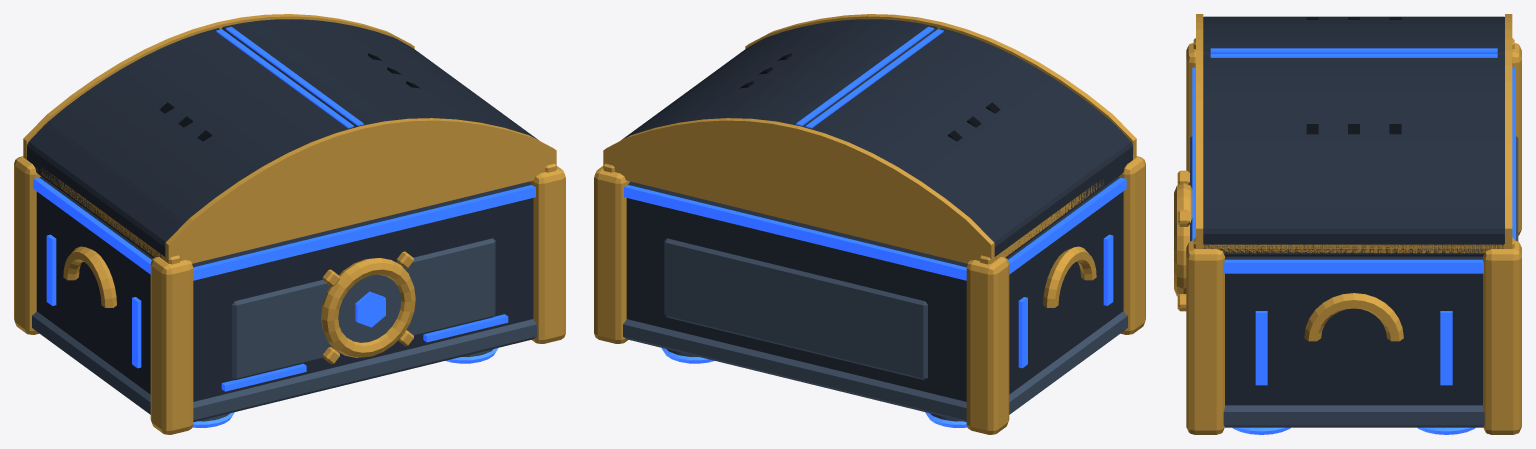
The model's file is pod_chest.glb.
3 renders of one model, left to right at view 1: azimuth 30°, elevation 25°; view 2: azimuth 150°, elevation 25°; view 3: azimuth 270°, elevation 25°, orthographic. The views are drawn at different scales.
Parts seen in each view (by area): view 1: lid_l.chest_shell, base.chest_shell, base.chest_panel, base.chest_gold, lid_l.chest_gold, lid_r.chest_shell, lid_r.chest_gold, base.glow_seam, lock.chest_gold, lock.chest_panel, lid_r.glow_seam, lid_l.glow_seam (+2 smaller); view 2: lid_l.chest_shell, base.chest_shell, base.chest_panel, base.chest_gold, lid_l.chest_gold, lid_r.chest_shell, lid_r.chest_gold, base.glow_seam, lid_r.glow_seam, lid_l.glow_seam, base.glow_core; view 3: lid_r.chest_shell, base.chest_shell, base.chest_gold, lid_l.chest_shell, base.glow_seam, base.chest_panel, lid_r.chest_gold, lock.chest_gold, lid_l.glow_seam, lid_r.glow_seam, base.glow_core, lid_l.chest_gold (+1 smaller).
Boxes of the visible parts, x1,y1,x2,y2 form: lid_l.chest_shell: (27,28,354,258); base.chest_shell: (36,176,533,401); base.chest_panel: (32,238,536,421); base.chest_gold: (14,156,565,434); lid_l.chest_gold: (23,22,362,264); lid_r.chest_shell: (221,19,538,140); lid_r.chest_gold: (217,14,556,221); base.glow_seam: (33,177,535,391); lock.chest_gold: (321,251,415,364); lock.chest_panel: (338,274,401,342); lid_r.glow_seam: (226,26,363,125); lid_l.glow_seam: (216,29,353,128); lid_l.chest_shell: (805,28,1132,258); base.chest_shell: (626,176,1123,401); base.chest_panel: (623,238,1127,421); base.chest_gold: (594,156,1145,434); lid_l.chest_gold: (797,22,1136,264); lid_r.chest_shell: (621,19,938,140); lid_r.chest_gold: (603,14,942,221); base.glow_seam: (624,177,1126,368); lid_r.glow_seam: (796,26,933,125); lid_l.glow_seam: (806,29,943,128); base.glow_core: (661,348,967,427); lid_r.chest_shell: (1203,55,1504,256); base.chest_shell: (1225,256,1482,405); base.chest_gold: (1186,43,1521,434); lid_l.chest_shell: (1203,16,1504,54); base.glow_seam: (1192,67,1515,385); base.chest_panel: (1190,136,1518,427); lid_r.chest_gold: (1193,51,1514,253); lock.chest_gold: (1174,170,1192,311); lid_l.glow_seam: (1210,48,1497,52); lid_r.glow_seam: (1210,53,1497,57); base.glow_core: (1232,427,1475,434); lid_l.chest_gold: (1193,14,1514,50).
Size of the model in its own units: 2.12 by 1.36 by 1.43.
